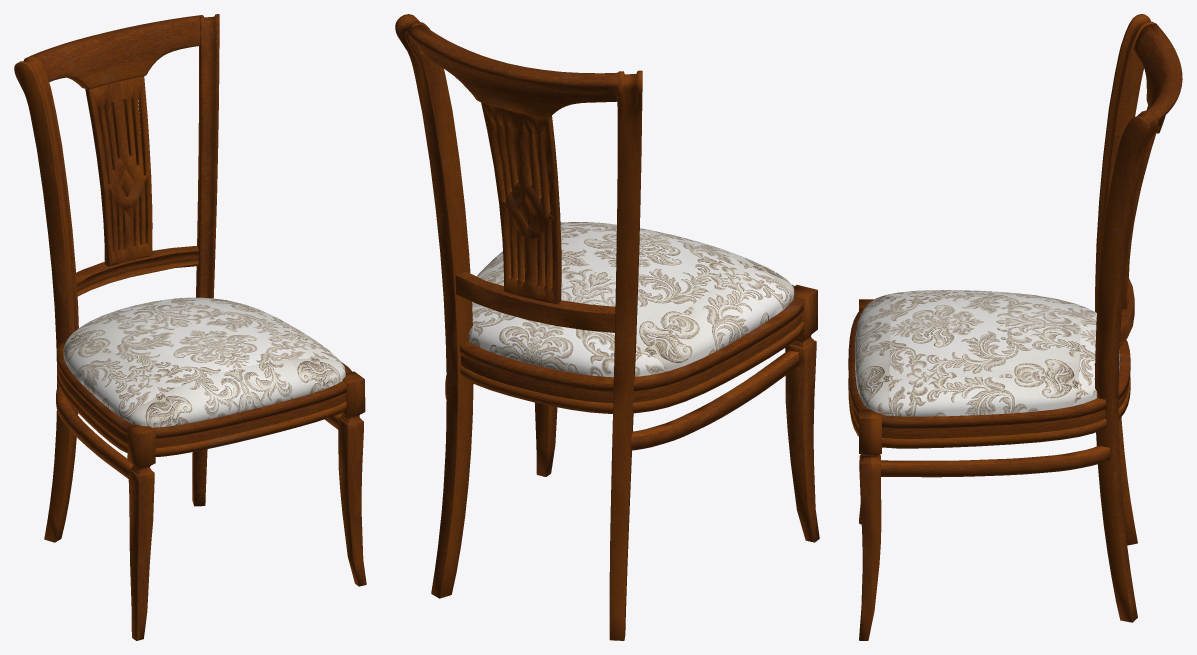
Rendered from chair2.FBX.
3 renders of one model, left to right at view 1: azimuth 30°, elevation 25°; view 2: azimuth 150°, elevation 25°; view 3: azimuth 270°, elevation 25°, orthographic. The views are drawn at different scales.
Parts seen in each view (by area): view 1: chair; view 2: chair; view 3: chair.
Boxes of the visible parts, x1,y1,x2,y2 form: chair: (14, 14, 366, 640); chair: (395, 14, 819, 640); chair: (848, 14, 1182, 640).
Bounding box in the file's own units: 48.74 × 96.78 × 56.89.
